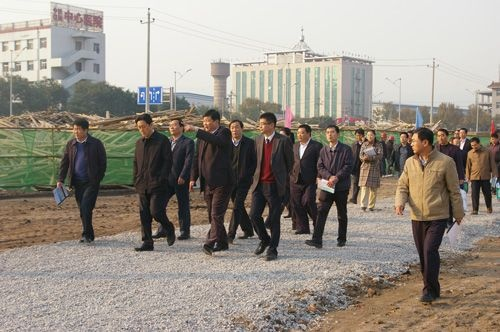none: (409, 125, 434, 157), (201, 108, 220, 134), (257, 111, 277, 134), (135, 113, 153, 137), (71, 118, 89, 140), (294, 123, 312, 144), (168, 117, 186, 137), (228, 118, 244, 140), (324, 125, 340, 144), (436, 128, 449, 145), (467, 136, 481, 150), (354, 127, 365, 143), (398, 130, 409, 144), (366, 129, 377, 142), (457, 126, 468, 139), (451, 136, 461, 148), (489, 133, 499, 144)
red: (387, 134, 395, 144), (380, 132, 387, 142)
